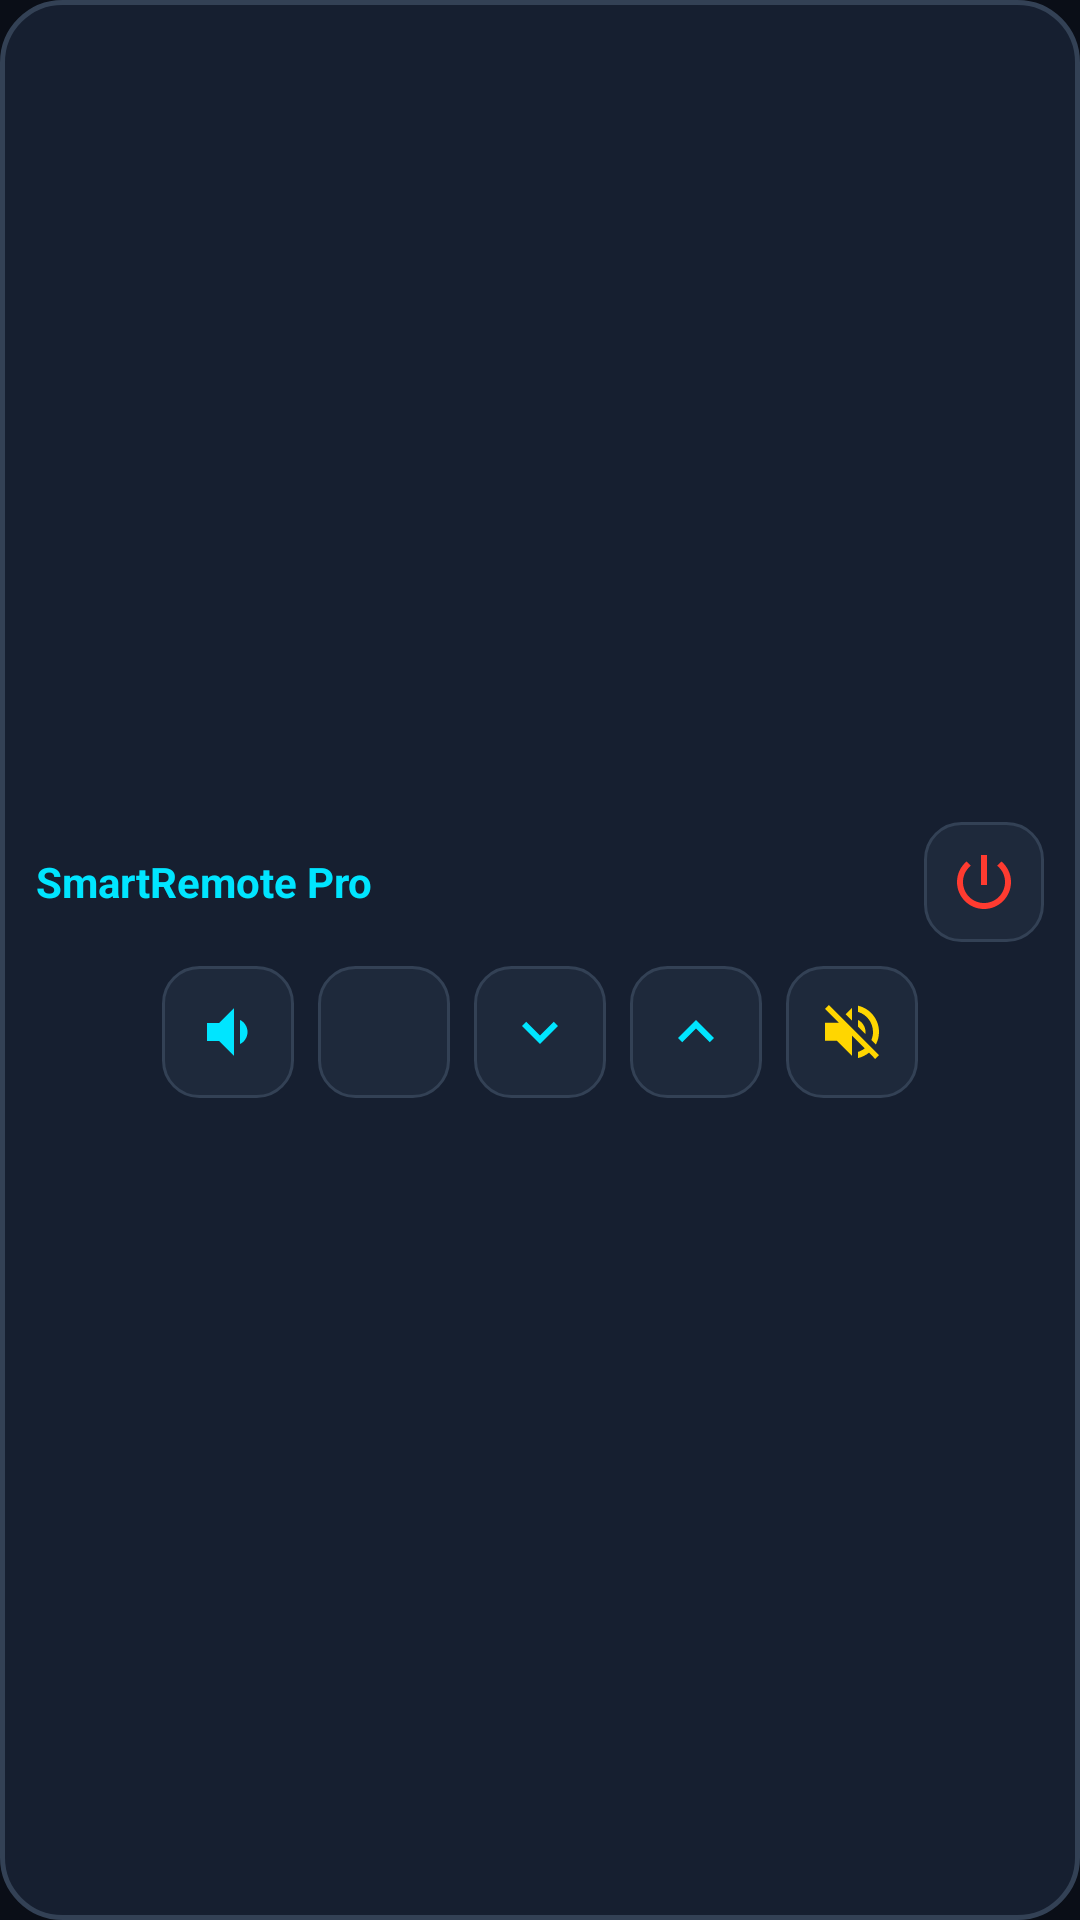

Screen size 1080×1920. Icon name, then its box in pixels as rect(x1, y1, x2, y2):
Ch +: rect(630, 966, 762, 1098)
Ch -: rect(474, 966, 606, 1098)
Mute: rect(786, 966, 918, 1098)
Power: rect(924, 822, 1044, 942)
Vol -: rect(162, 966, 294, 1098)
